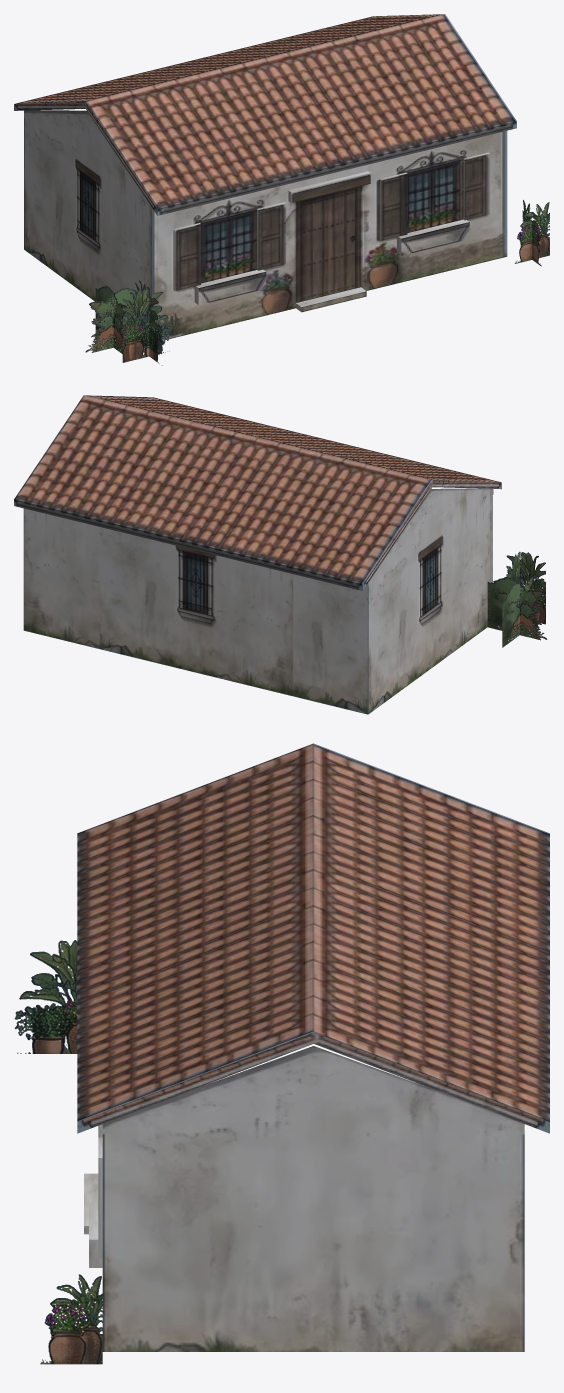
Rendered from casa_andaluza_5v_b.glb.
The picture shows the model from 3 angles, top to bottom: view 1: azimuth 30°, elevation 25°; view 2: azimuth 150°, elevation 25°; view 3: azimuth 270°, elevation 25°; orthographic projection. The views are drawn at different scales.
Visible parts, largest first — view 1: CA5B_Casa, CA5B_Plantas; view 2: CA5B_Casa, CA5B_Plantas; view 3: CA5B_Casa, CA5B_Plantas.
Boxes of the visible parts, x1,y1,x2,y2 form: CA5B_Casa: [14, 14, 516, 340]; CA5B_Plantas: [85, 200, 549, 365]; CA5B_Casa: [14, 395, 501, 714]; CA5B_Plantas: [487, 551, 547, 647]; CA5B_Casa: [77, 743, 549, 1351]; CA5B_Plantas: [14, 940, 102, 1364].
Bounding box in the file's own units: 10.2 × 4.2 × 6.35.
Materials: 2 (2 with a texture image).
